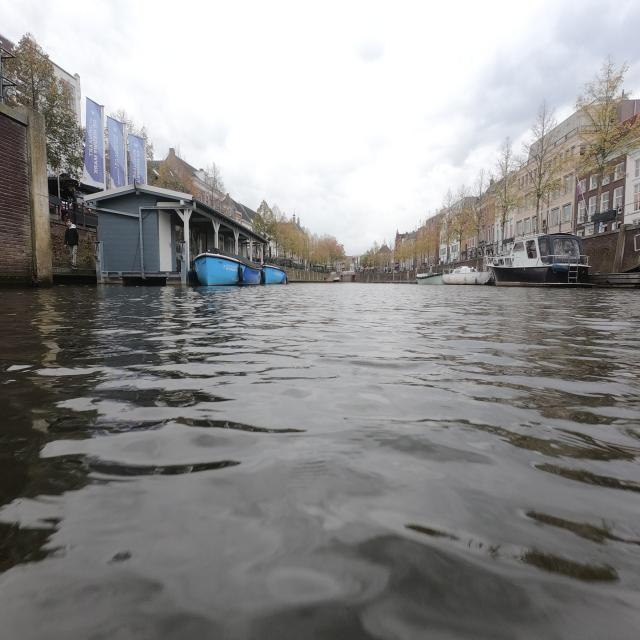boat: (194, 252, 240, 284)
sky: (0, 8, 638, 248)
tree: (0, 34, 80, 180)
wall: (2, 104, 94, 278), (584, 230, 638, 276)
water: (8, 292, 636, 634)
